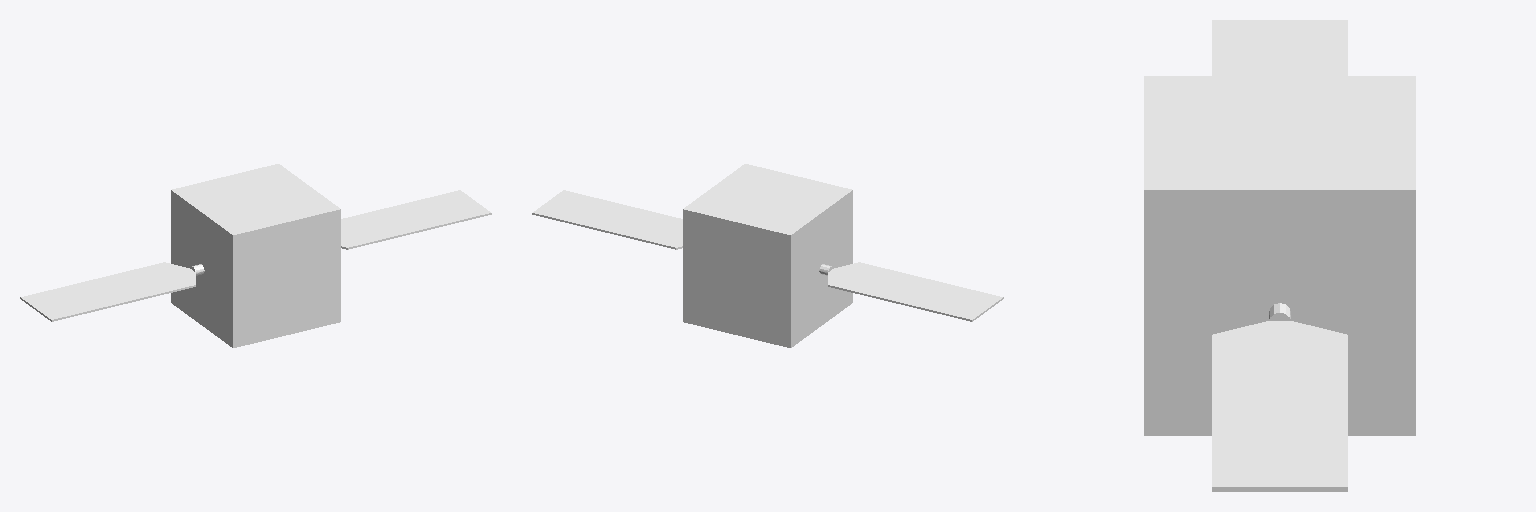
robot.urdf — satellite:
<?xml version="1.0" encoding="utf-8"?>
<!-- This URDF was automatically created by SolidWorks to URDF Exporter! Originally created by [author] ([email redacted]) 
     Commit Version: 1.6.0-1-g15f4949  Build Version: 1.6.7594.29634
     For more information, please see http://wiki.ros.org/sw_urdf_exporter -->
<robot
  name="satellite">
  <link name="satellite">
    <inertial>
      <origin xyz="0 0 0" rpy="0 0 0" />
      <mass value="100" />
      <inertia ixx="416" ixy="0" ixz="0" iyy="529" iyz="0" izz="529" />
    </inertial>
    <visual>
      <origin xyz="0 0 0" rpy="0 0 0" />
      <geometry>
        <mesh filename="../meshes/satellite/satellite.STL" />
      </geometry>
      <material name="Iron">
        <color rgba="1 1 1 1" />
      </material>
    </visual>
    <collision>
      <origin xyz="0 0 0" rpy="0 0 0" />
      <geometry>
        <mesh filename="../meshes/satellite/satellite.STL" />
      </geometry>
    </collision>
  </link>
</robot>

--- What the picture shows (computed from the rendered views, not written in the file) ---
The picture shows the robot from 3 angles, left to right: view 1: azimuth 30°, elevation 25°; view 2: azimuth 150°, elevation 25°; view 3: azimuth 270°, elevation 25°; orthographic projection.
Model satellite with 1 links and 0 joints (none), rooted at satellite, posed every joint at zero.
Links seen in each view (by area): view 1: satellite; view 2: satellite; view 3: satellite.
Boxes of the visible links, <box> form: satellite: <box>20,164,491,347</box>; satellite: <box>532,164,1003,347</box>; satellite: <box>1144,20,1415,491</box>.
Bounding box of the posed robot: 4.89 × 1.2 × 1.2 m (x, y, z).
Meshes: 1 distinct files referenced, 1 mesh visuals loaded (1 binary STL).